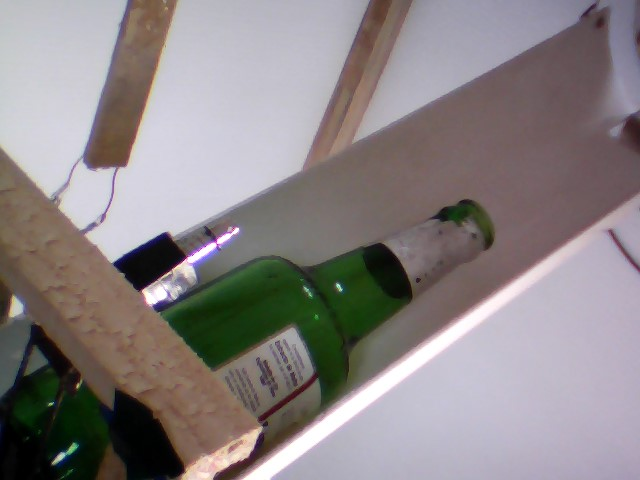vidrio: (179, 194, 524, 449)
